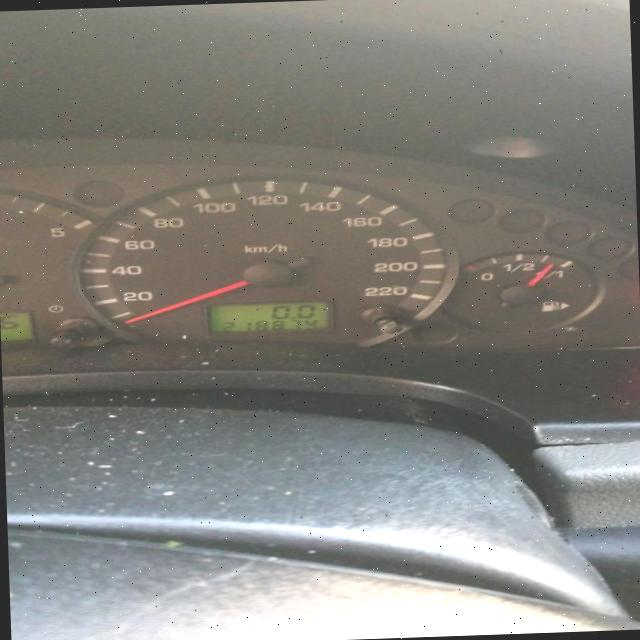odometer: (201, 298, 335, 336)
